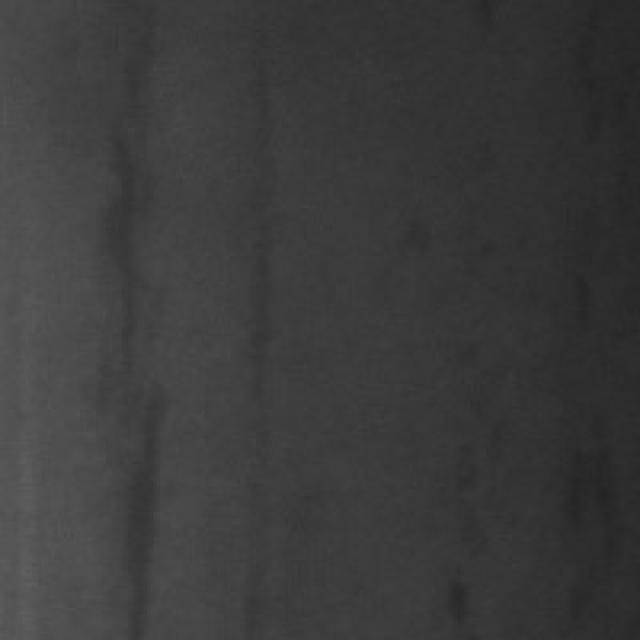inclusion: (70, 6, 176, 634), (560, 316, 634, 634), (214, 144, 285, 416)
